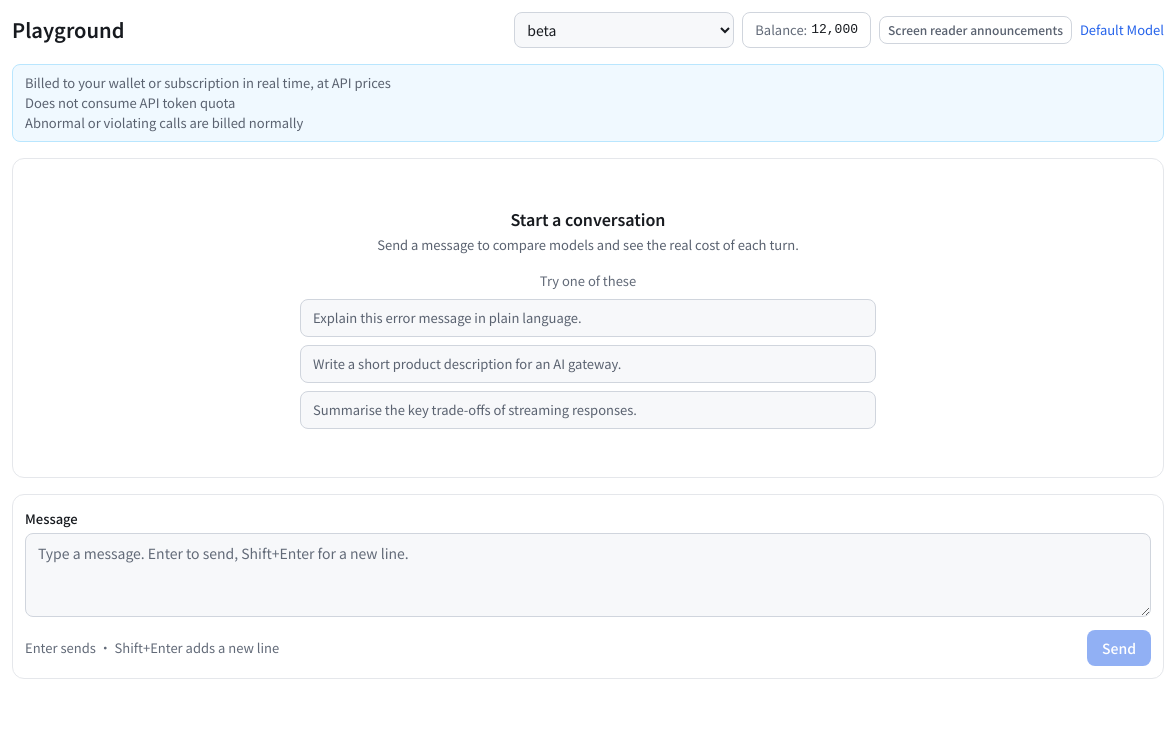
Scenario: PlaygroundPage › marks a stream as interrupted when [DONE] never arrives
The width and height of the screenshot is (1176, 732).
expect the dropdown named "Select a model" is shown: met, box [514, 12, 734, 48]
Type "go" into the text box labelled "Message".
click(588, 575); type("go")  # box [25, 533, 1151, 617]
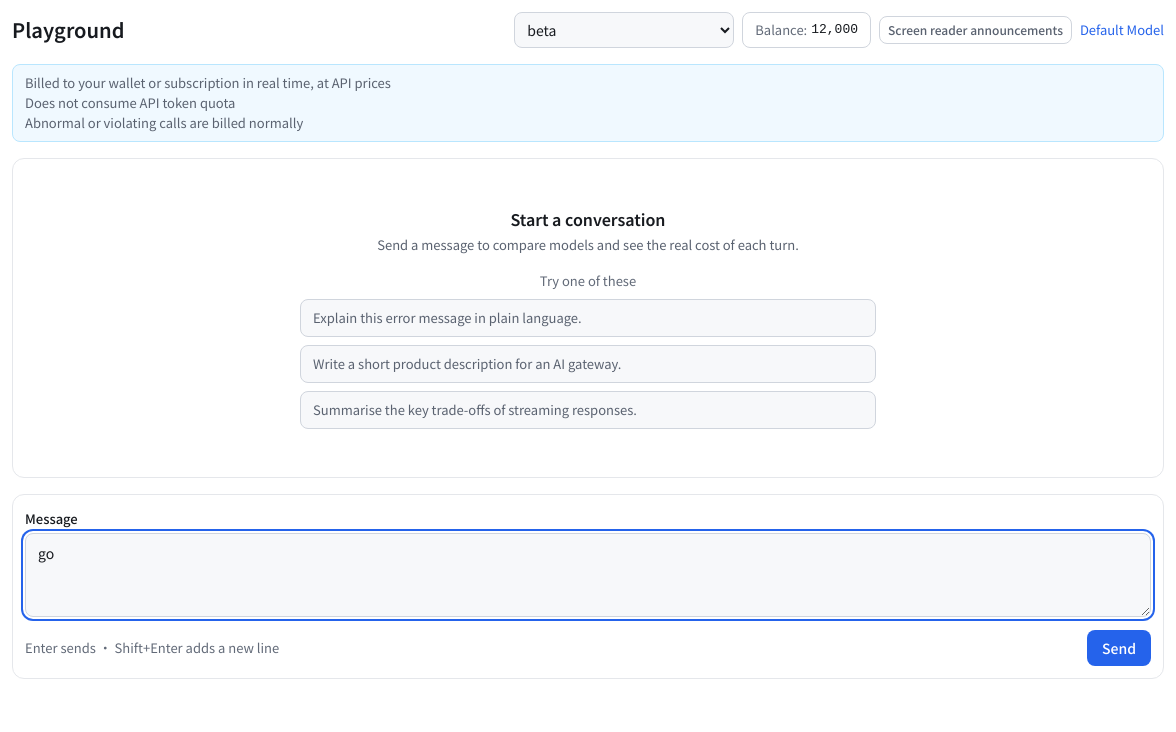
Click the button "Send".
click(1119, 648)  # box [1087, 630, 1151, 666]
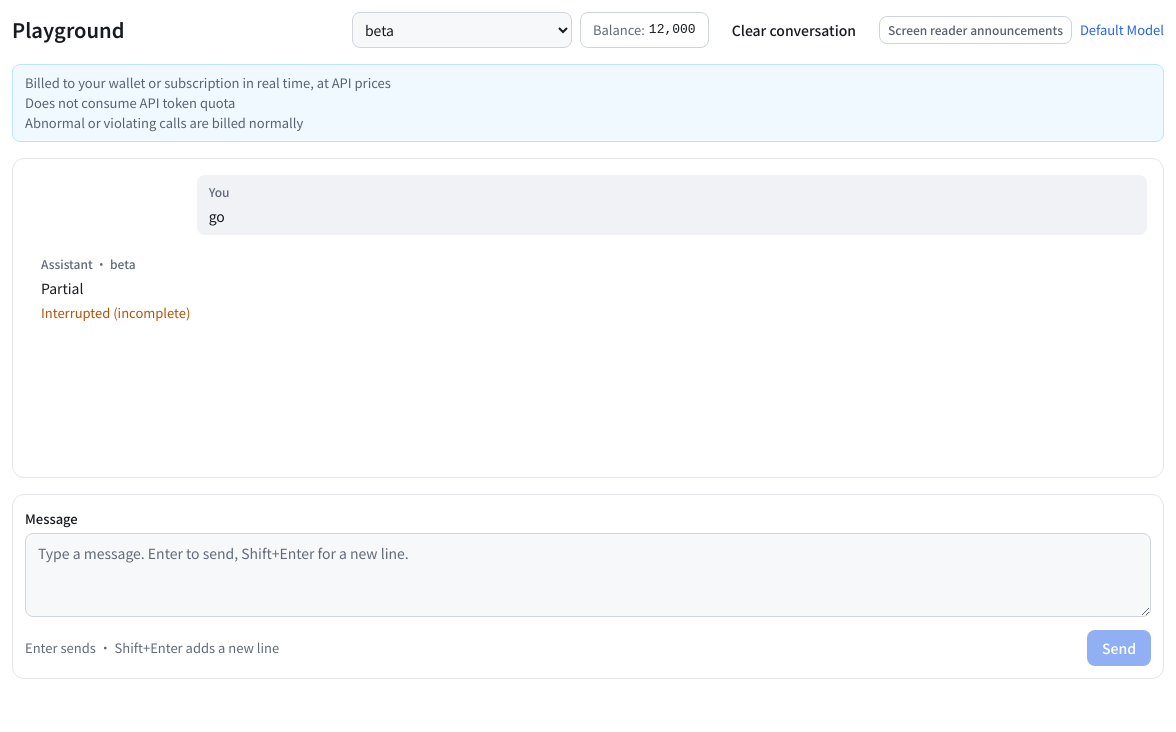
expect the text "Partial" is shown: met, box [41, 278, 84, 298]
